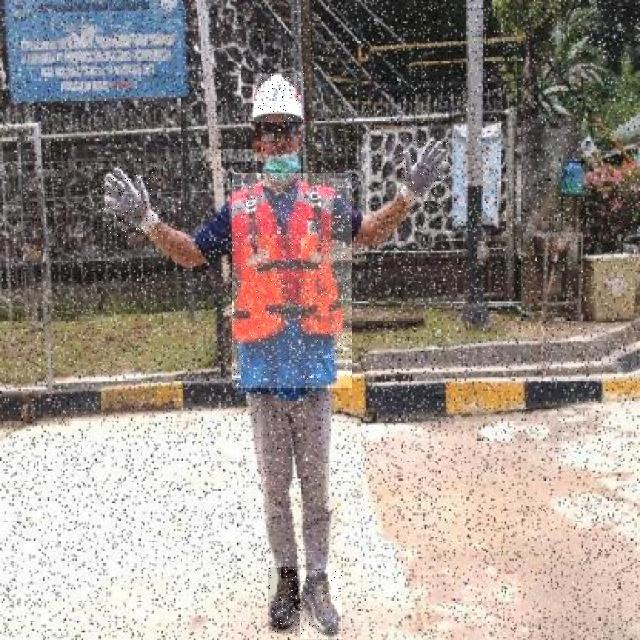Gloves: (99, 152, 167, 251), (392, 132, 456, 224)
Helmet: (253, 73, 304, 122)
Person: (92, 58, 469, 640)
Safety Boot: (300, 570, 342, 639), (268, 567, 301, 633)
Safety Vest: (232, 174, 352, 390)
